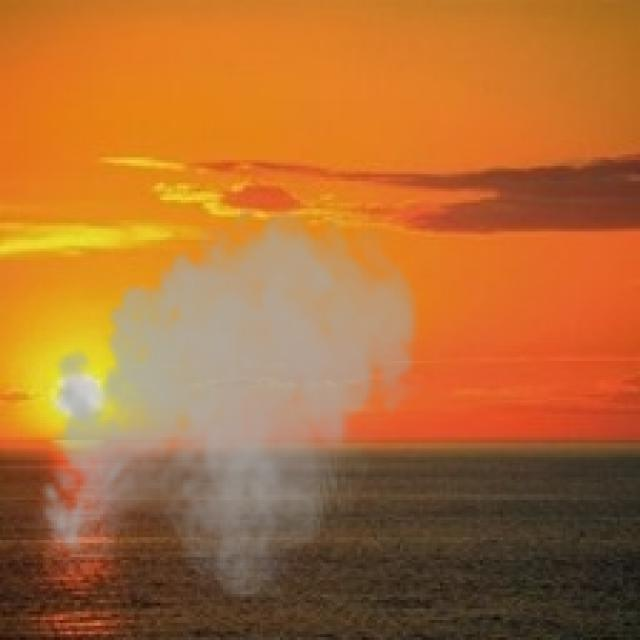smoke: (29, 197, 428, 600)
